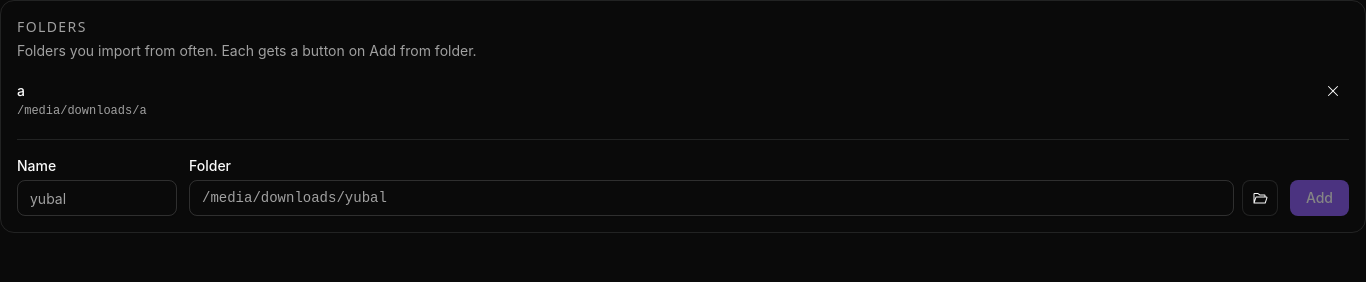
Test: FolderSourcesPanel: focus after a remove › a failed remove keeps the row and says so
The image size is (1366, 282).
Expected: the list item is shown, [17,73,1349,127]
Click the button named "Remove a from Sources": [1333, 91] box [1317,75,1349,107]
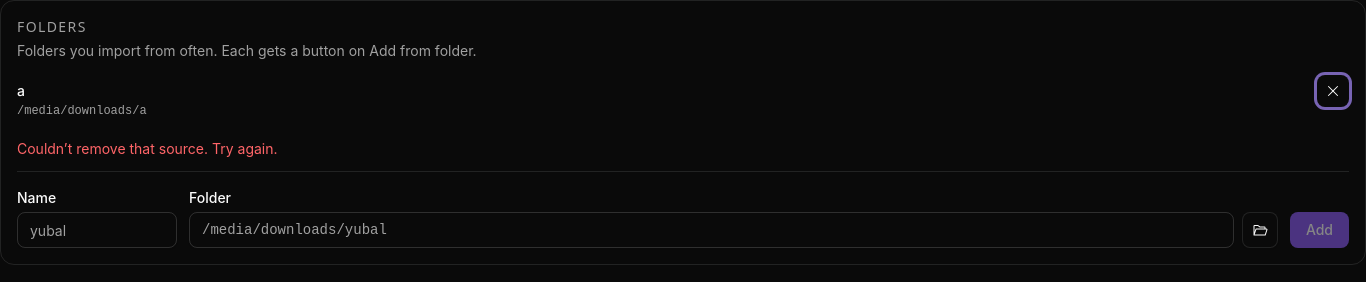
Result: the message reads "Couldn’t remove that source. Try again." at [17,140,278,157]
